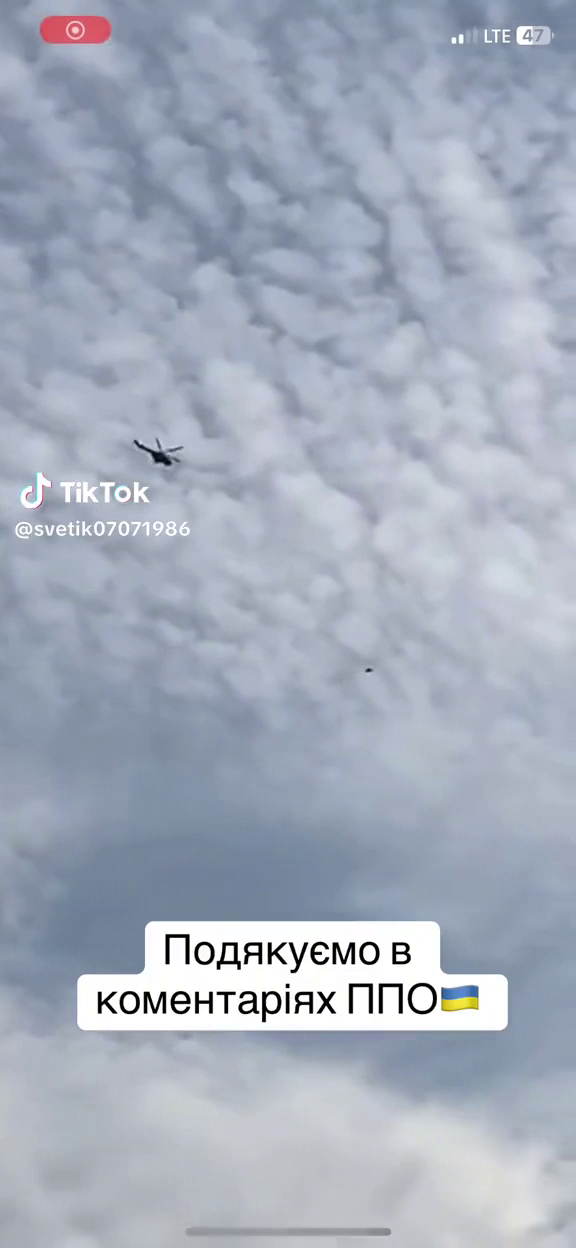not_drone: (129, 434, 186, 472)
